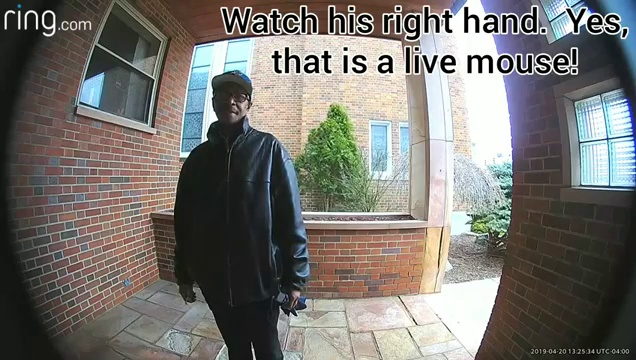face: (211, 88, 247, 121)
